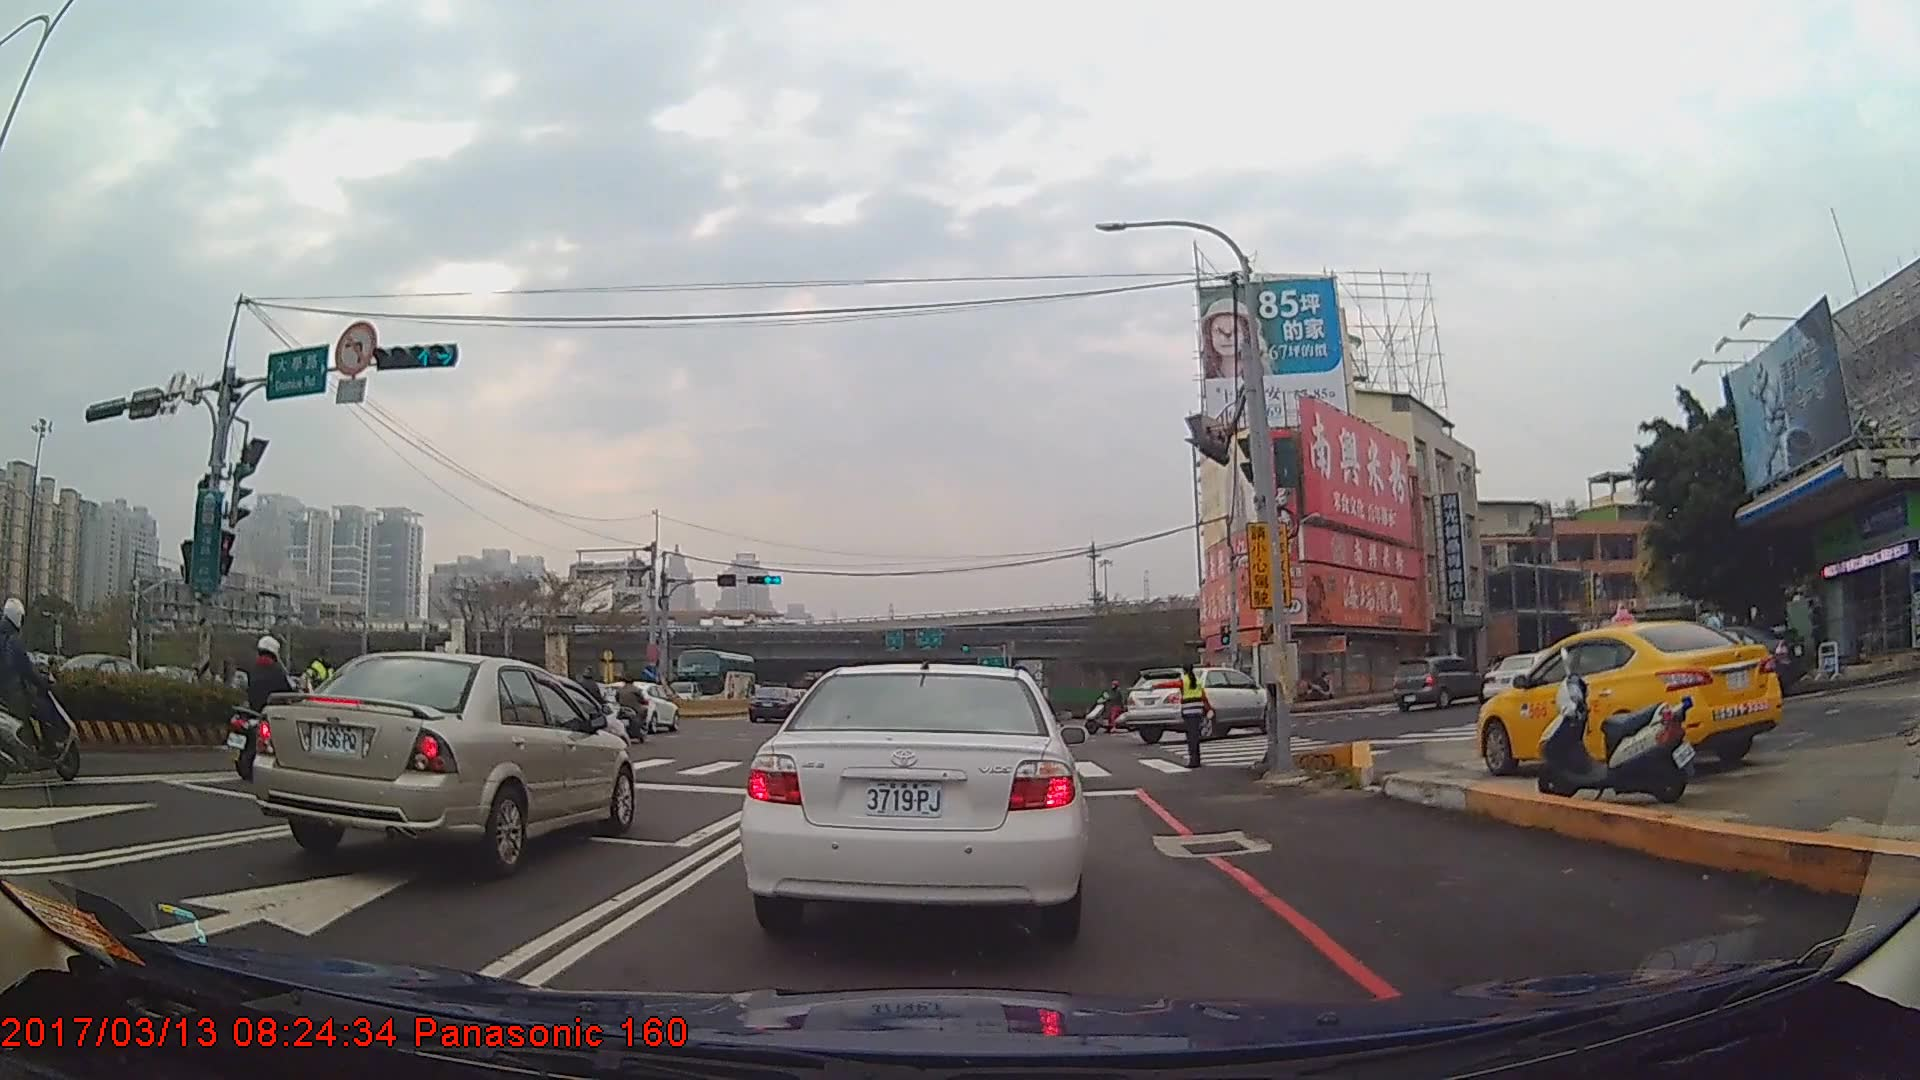pedestrian: (1127, 661, 1210, 771), (301, 647, 335, 743)
rider: (1, 595, 88, 781), (226, 633, 325, 780), (572, 668, 614, 741), (1083, 681, 1138, 734), (616, 675, 647, 742)
vehicle: (736, 655, 1088, 936), (251, 649, 634, 874), (1474, 616, 1779, 779), (1124, 664, 1287, 741), (1386, 654, 1485, 713), (1481, 649, 1571, 712), (675, 647, 757, 702), (599, 679, 678, 735), (744, 685, 805, 723)
